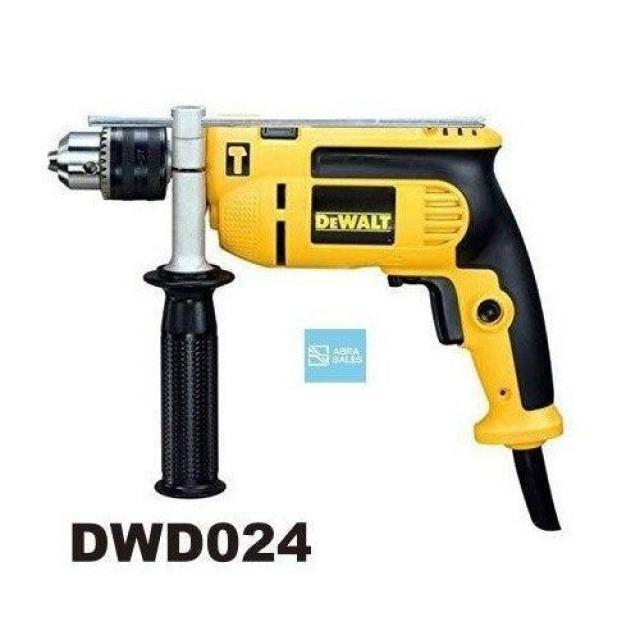drill: (45, 106, 564, 532)
